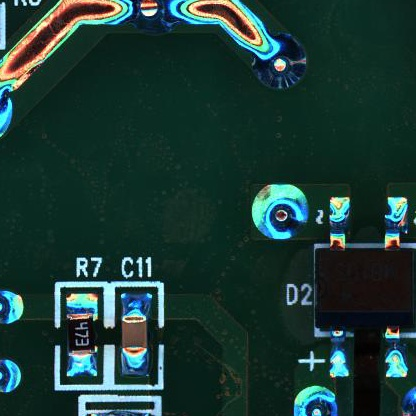spot: (251, 31, 309, 90), (252, 183, 308, 241)
